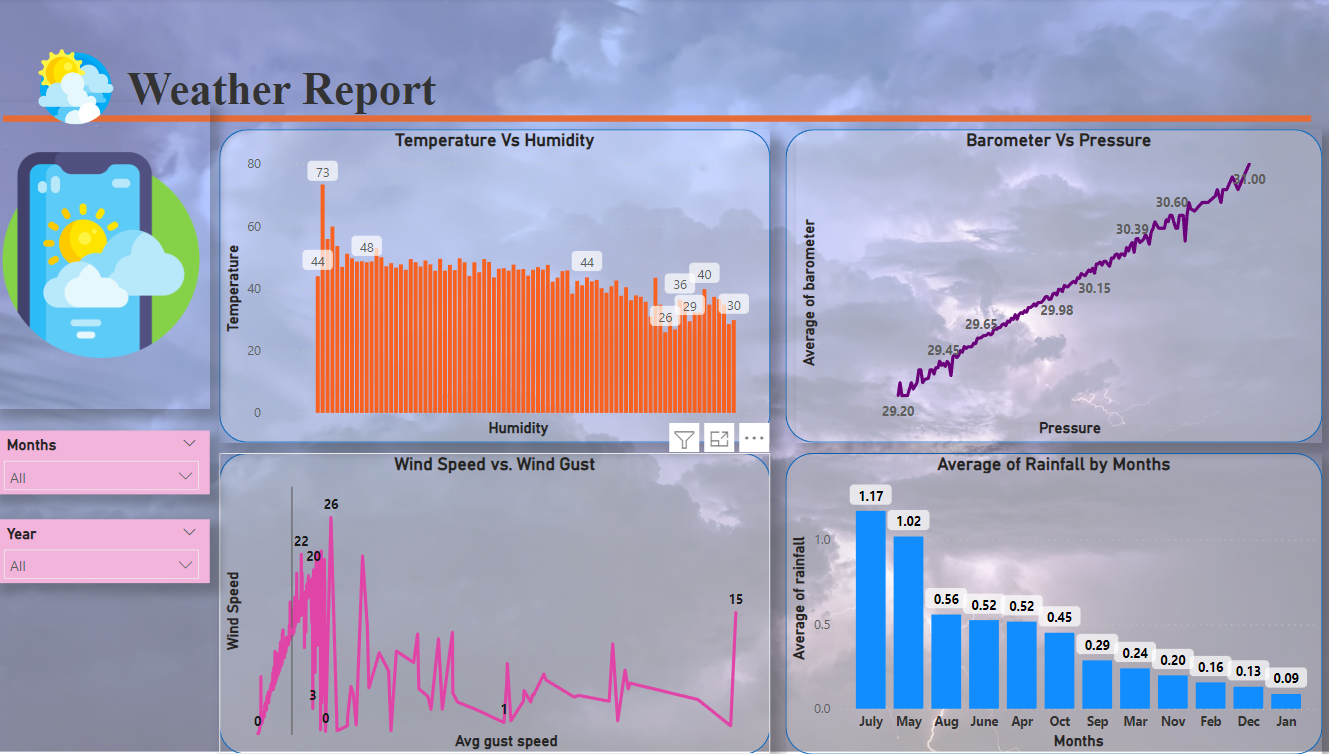

What the dashboard file says about the page in this screenshot:
{"tool":"powerbi","page":{"name":"Report1","canvas":[1280,720],"ordinal":0},"visuals":[{"type":"shape","box":[9.6,0,1245.7,229.4],"z":0},{"type":"shape","box":[215.6,125,524.6,298],"z":1000},{"type":"shape","box":[754,125,510.9,298],"z":2000},{"type":"shape","box":[215.6,432.6,524.6,287],"z":3000},{"type":"shape","box":[754,432.6,510.9,287],"z":4000},{"type":"textbox","box":[122.2,57.7,336.5,82.4],"z":5000},{"type":"lineStackedColumnComboChart","title":"Temperature Vs Humidity","fields":{"Category":["weatherdata . humidityAvg"],"Y":["Avg(weatherdata . temperatureAvg)"]},"box":[215.6,125,524.6,298],"z":6000},{"type":"lineChart","title":"Barometer Vs Pressure","fields":{"Y":["Avg(weatherdata . barometerAvg)"],"Category":["weatherdata .Maximum pressure"]},"box":[763.6,125,501.3,298],"z":7000},{"type":"lineChart","title":"Wind Speed vs. Wind Gust","fields":{"Category":["weatherdata . gust speedAvg "],"Y":["Max(weatherdata . windspeedAvg )"]},"box":[215.6,432.6,524.6,287],"z":8000},{"type":"lineClusteredColumnComboChart","title":"Average of Rainfall  by Months","fields":{"Category":["weatherdata .Months"],"Y":["Avg(weatherdata .Rainfall for month )"]},"box":[754,432.6,510.9,287],"z":9000},{"type":"image","box":[0,98.9,206,292.5],"z":12000},{"type":"image","box":[34.3,43.9,87.9,81],"z":13000},{"type":"shape","box":[0,404.6,204.7,78.5],"z":13001},{"type":"slicer","fields":{"Values":["weatherdata .Months"]},"box":[11.9,418.9,182.1,48.8],"z":13003},{"type":"shape","box":[0,497.5,204.7,78.5],"z":13004},{"type":"slicer","fields":{"Values":["weatherdata .Year"]},"box":[9.5,504.6,177.3,64.3],"z":13005}]}

Visuals, with their boxes in screenshot pixels (x1, y1, x2, y2), scaled from the page's 1280x720 canvas onto the 1329x754 screenshot:
shape: bbox=[10, 0, 1303, 240]
shape: bbox=[224, 131, 769, 443]
shape: bbox=[783, 131, 1313, 443]
shape: bbox=[224, 453, 769, 753]
shape: bbox=[783, 453, 1313, 753]
textbox: bbox=[127, 60, 476, 147]
"Temperature Vs Humidity" lineStackedColumnComboChart: bbox=[224, 131, 769, 443]
"Barometer Vs Pressure" lineChart: bbox=[793, 131, 1313, 443]
"Wind Speed vs. Wind Gust" lineChart: bbox=[224, 453, 769, 753]
"Average of Rainfall  by Months" lineClusteredColumnComboChart: bbox=[783, 453, 1313, 753]
image: bbox=[0, 104, 214, 410]
image: bbox=[36, 46, 127, 131]
shape: bbox=[0, 424, 213, 506]
slicer - weatherdata .Months: bbox=[12, 439, 201, 490]
shape: bbox=[0, 521, 213, 603]
slicer - weatherdata .Year: bbox=[10, 528, 194, 596]
